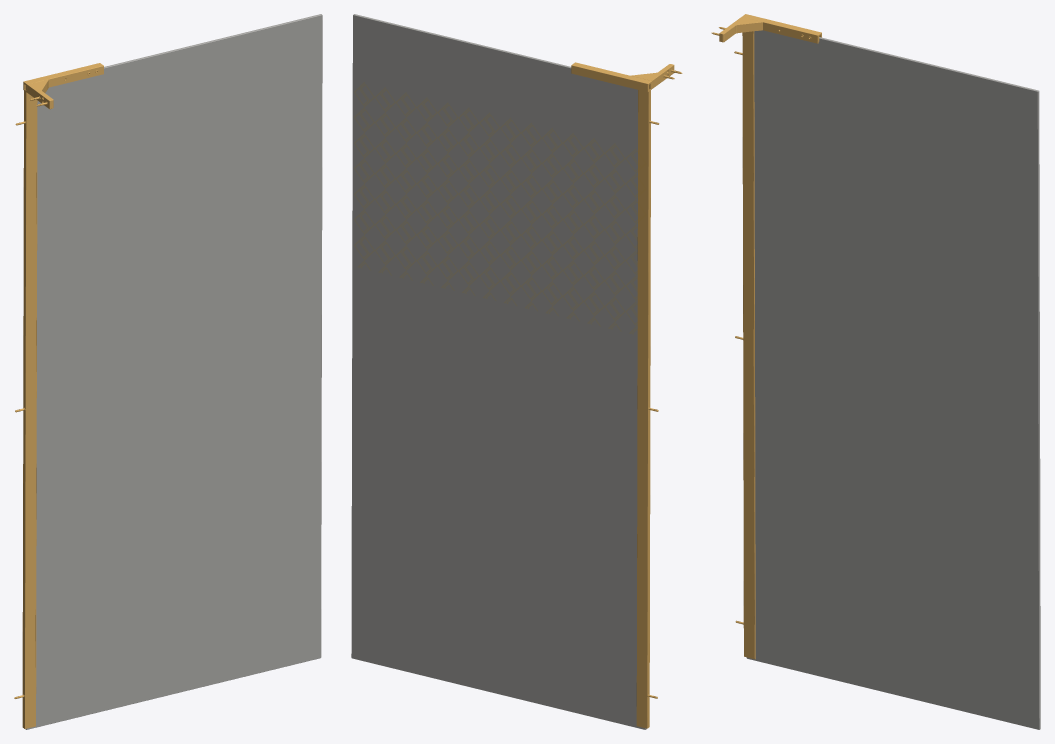
File: fixe_compressed.glb
3 renders of one model, left to right at view 1: azimuth 30°, elevation 25°; view 2: azimuth 150°, elevation 25°; view 3: azimuth 330°, elevation 25°, orthographic.
Visible parts, largest first — view 1: W01SC01-1000X2000-2025-04-02.025, W01SC01-1000X2000-2025-04-02; view 2: W01SC01-1000X2000-2025-04-02.025, W01SC01-1000X2000-2025-04-02, Object.001; view 3: W01SC01-1000X2000-2025-04-02.025, W01SC01-1000X2000-2025-04-02.
Part boxes in pixels (<box>): W01SC01-1000X2000-2025-04-02.025: <box>25,14,322,729</box>; W01SC01-1000X2000-2025-04-02: <box>14,63,103,728</box>; W01SC01-1000X2000-2025-04-02.025: <box>351,14,646,729</box>; W01SC01-1000X2000-2025-04-02: <box>571,62,682,728</box>; Object.001: <box>354,82,645,333</box>; W01SC01-1000X2000-2025-04-02.025: <box>746,30,1040,729</box>; W01SC01-1000X2000-2025-04-02: <box>711,14,821,659</box>.
Size of the model in its own units: 53.96 by 109 by 8.23.
